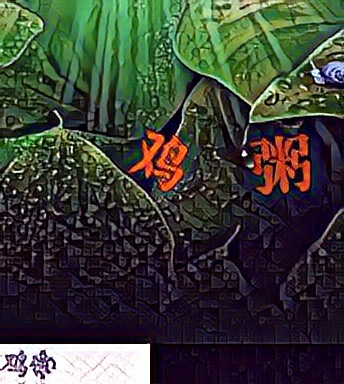BCA6: (126, 127, 191, 191)
D6E0: (248, 133, 313, 197)
